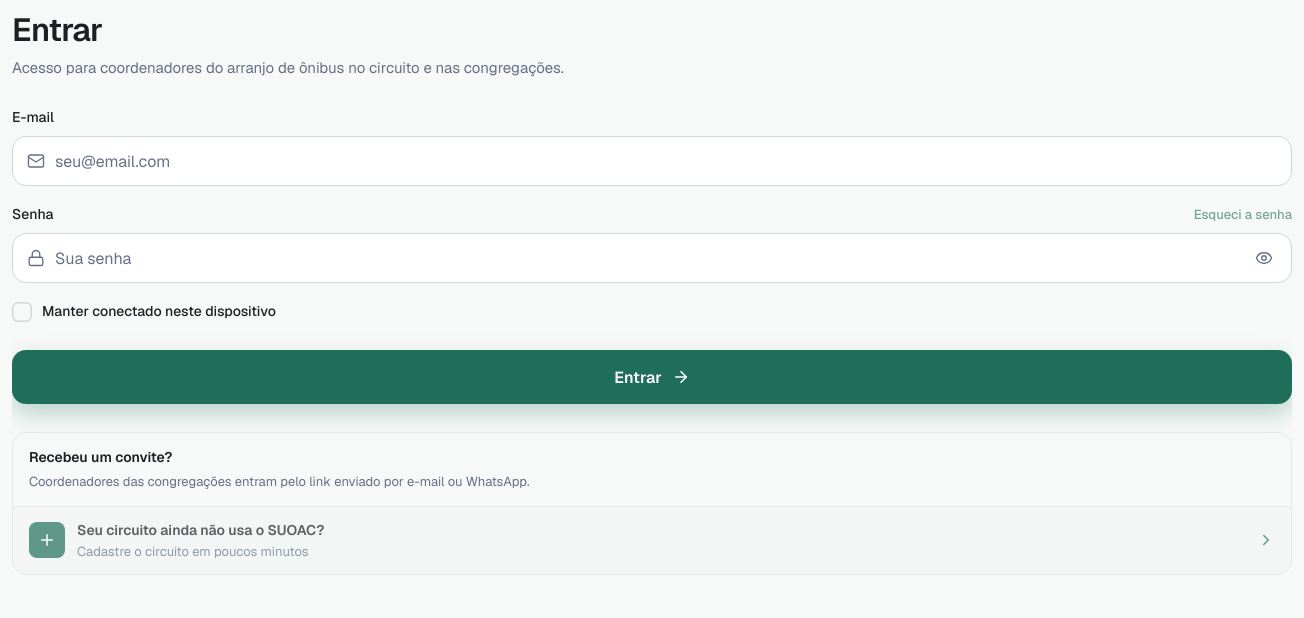
Test: SignInForm › valida o e-mail antes de incomodar o servidor
The image size is (1304, 618).
Type "nao-e-email" into the field labelled "E-mail". click: (669, 161)
box: [55,137,1283,185]
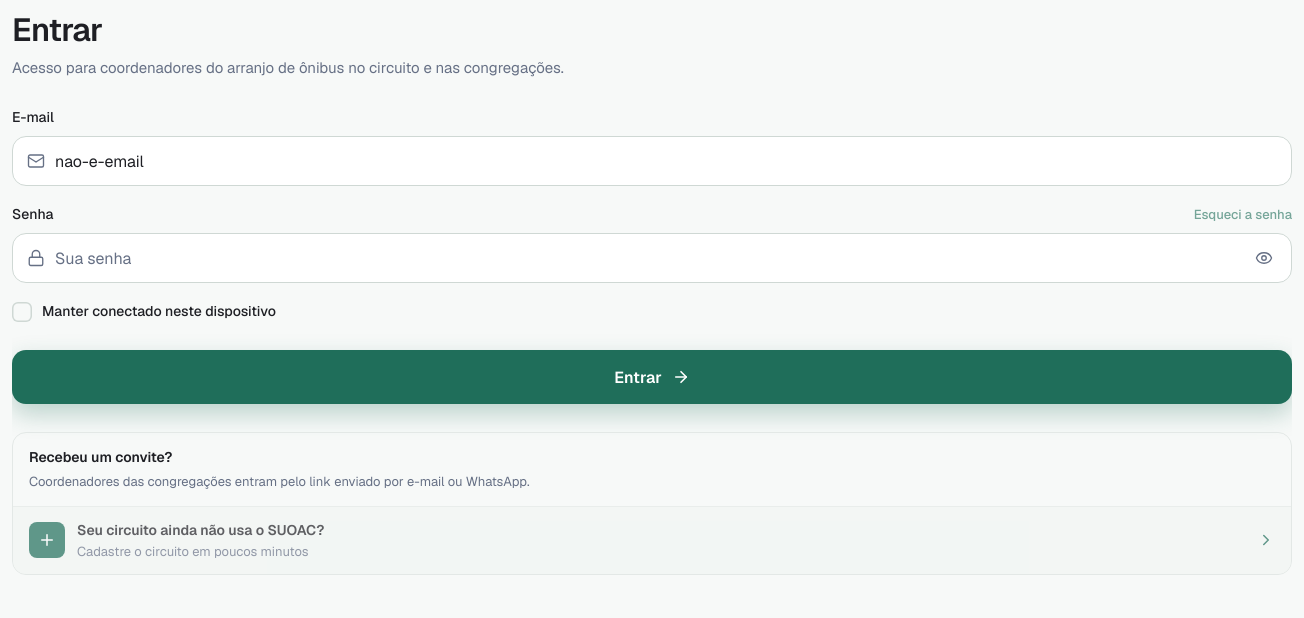
Type "senha-correta" into the password field labelled "Senha". click: (645, 258)
box: [55,234,1235,282]
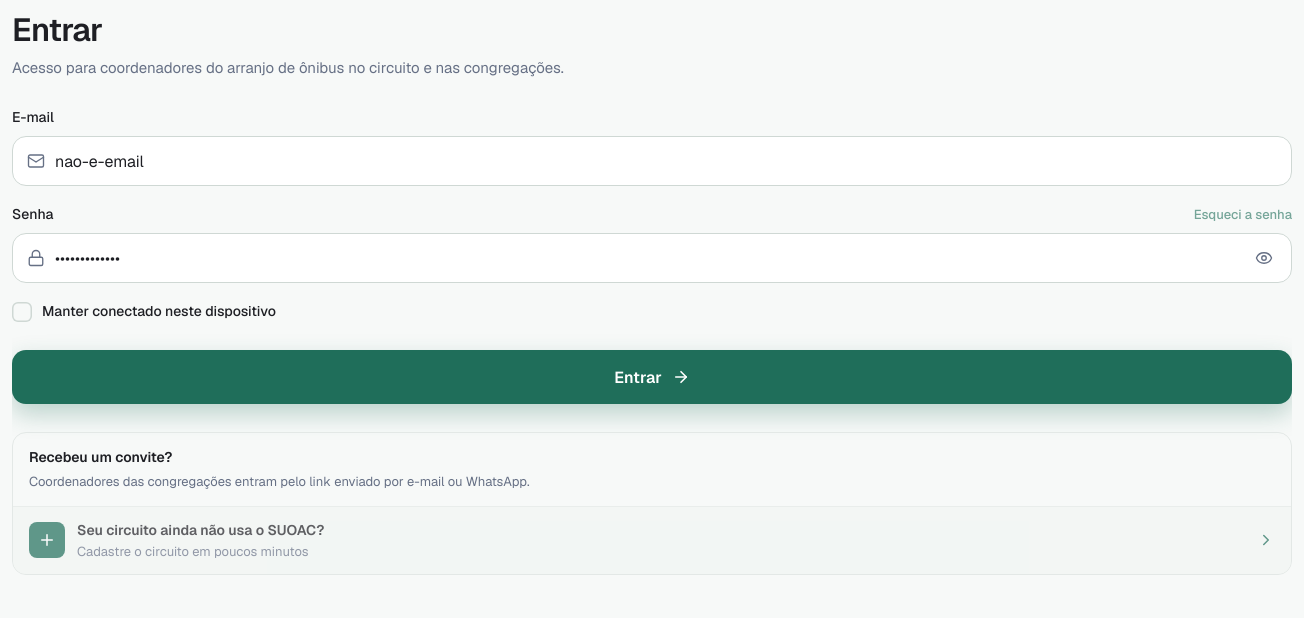
Click the button "Entrar". click: (652, 377)
box: [12,350,1292,404]
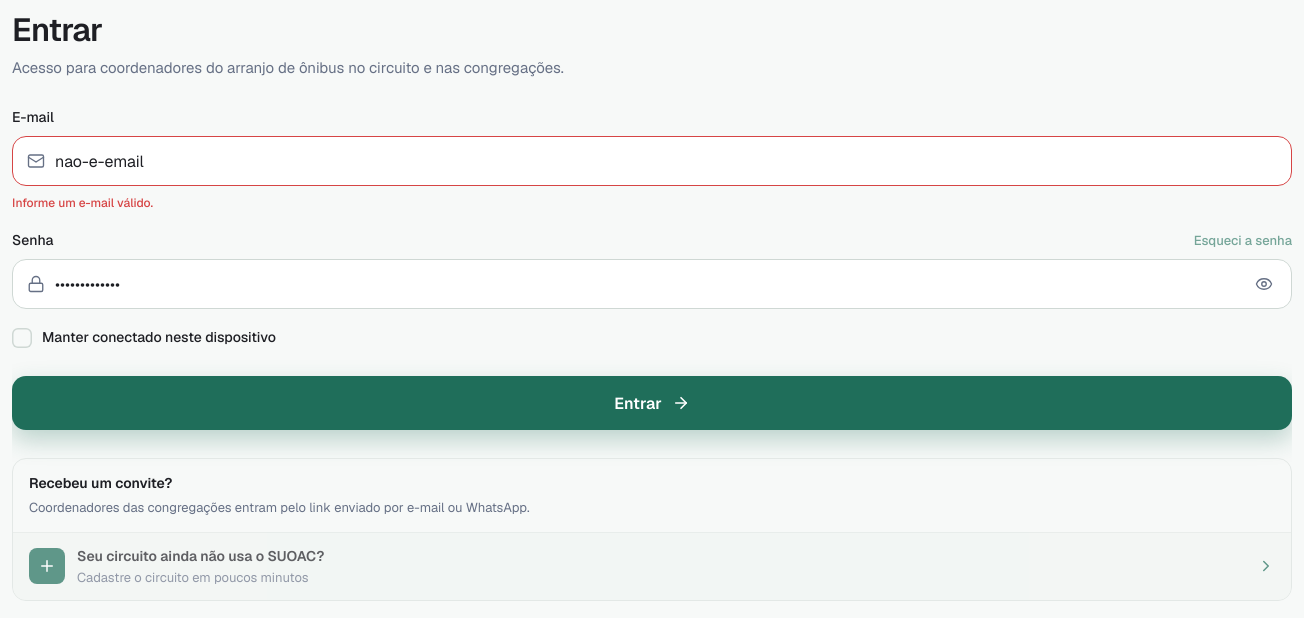
Now the text "Informe um e-mail válido." is shown, box [12,195,153,211]
